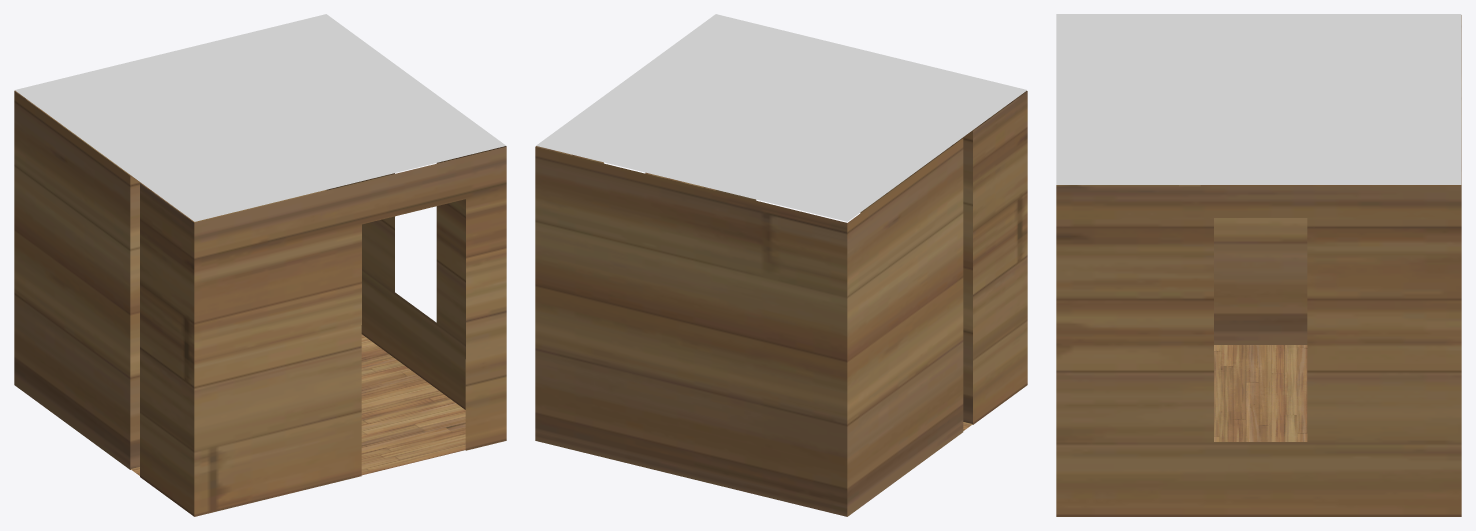
Rendered from baño_acabado.fbx.
3 renders of one model, left to right at view 1: azimuth 30°, elevation 25°; view 2: azimuth 150°, elevation 25°; view 3: azimuth 270°, elevation 25°, orthographic. The views are drawn at different scales.
Parts seen in each view (by area): view 1: Baño, techo; view 2: Baño, techo; view 3: Baño, techo.
Boxes of the visible parts, left/top/right/bottom form: Baño: left=14, top=90, right=506, bottom=516; techo: left=15, top=14, right=506, bottom=221; Baño: left=535, top=91, right=1027, bottom=516; techo: left=536, top=14, right=1027, bottom=221; Baño: left=1056, top=15, right=1461, bottom=516; techo: left=1056, top=14, right=1461, bottom=184.
Size of the model in its own units: 500 by 451 by 500.
